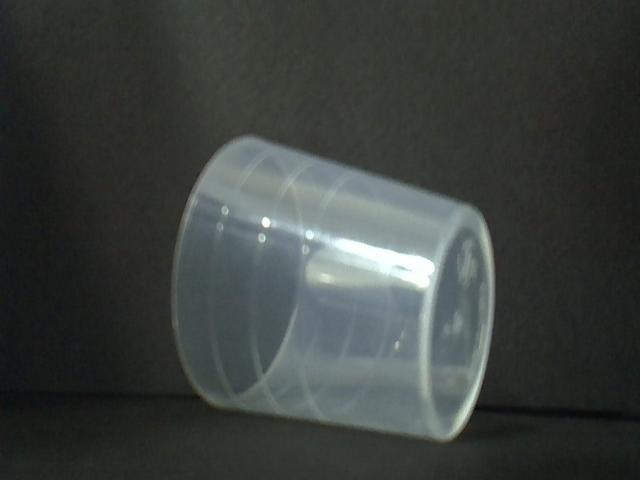cup: (168, 128, 501, 444)
